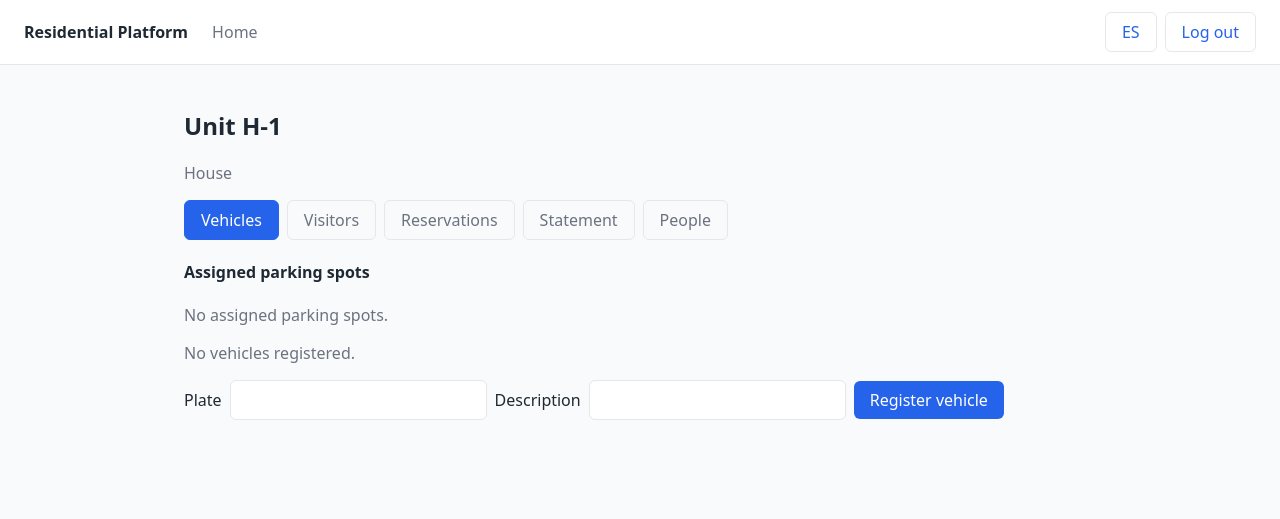
Test: unit page › shows the unit statement with the pending total
This screenshot has width=1280, height=519.
What coordinates should you click on to do the following:
click the tab "Statement"
I would click on:
 (579, 220)
Its box is [523,200,635,240].
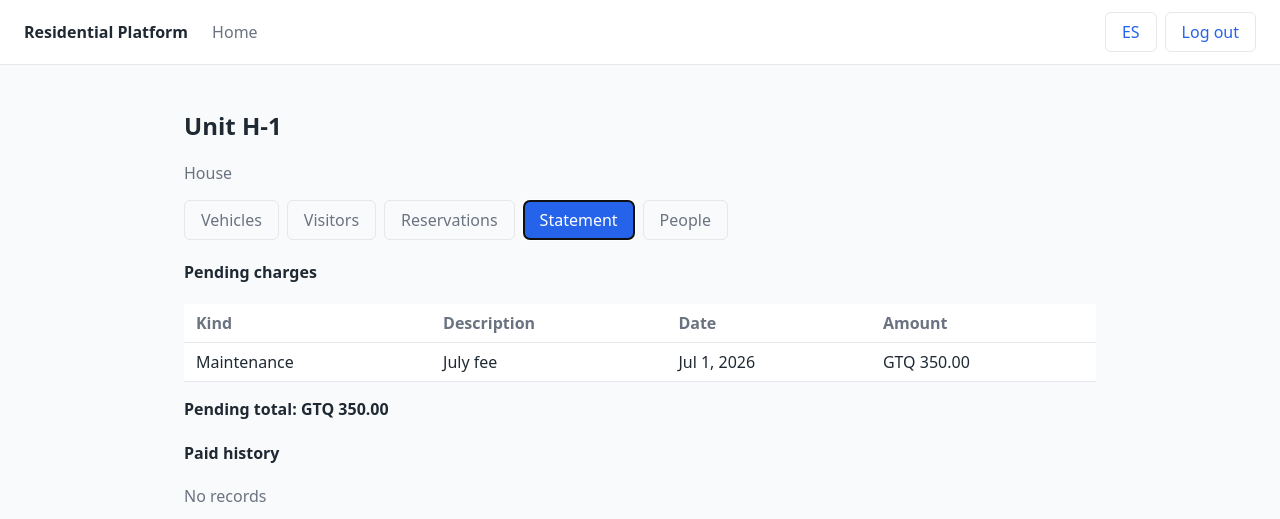
Check: the text "July fee" is shown, box [431,343,666,382]
Check: the text "Pending total: GTQ 350.00" is shown, box [184,398,389,420]
